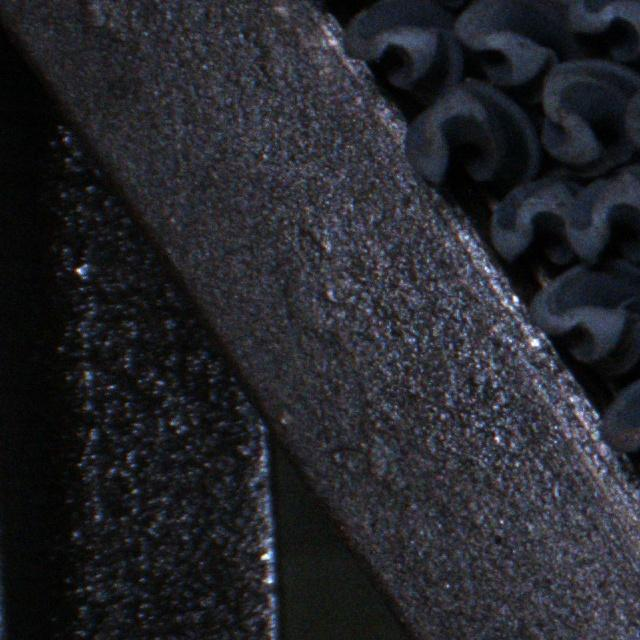tool_b: (407, 80, 540, 189), (530, 258, 640, 376), (343, 0, 465, 97), (537, 62, 638, 175), (453, 0, 577, 85), (489, 170, 586, 268), (568, 163, 640, 264), (565, 0, 640, 61), (600, 375, 640, 481)
